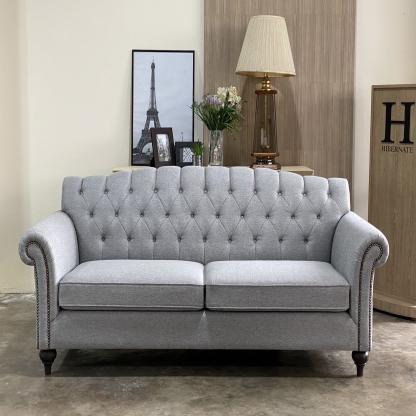Sofa: (24, 174, 379, 367)
